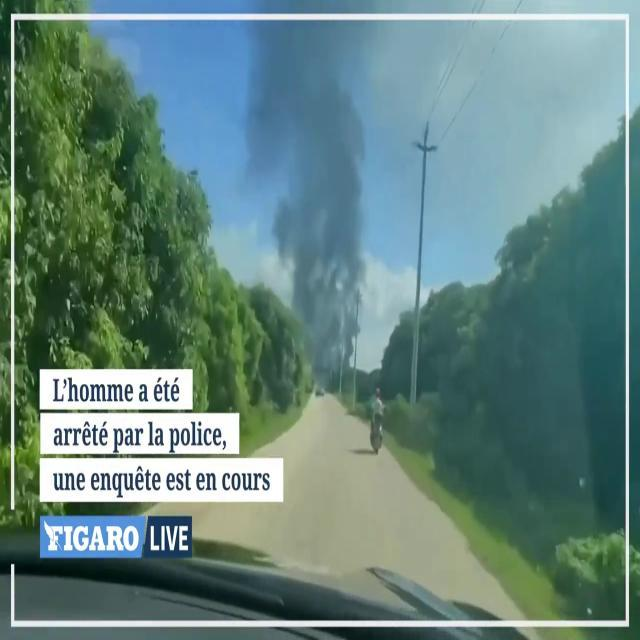Smoke: (237, 20, 375, 372)
